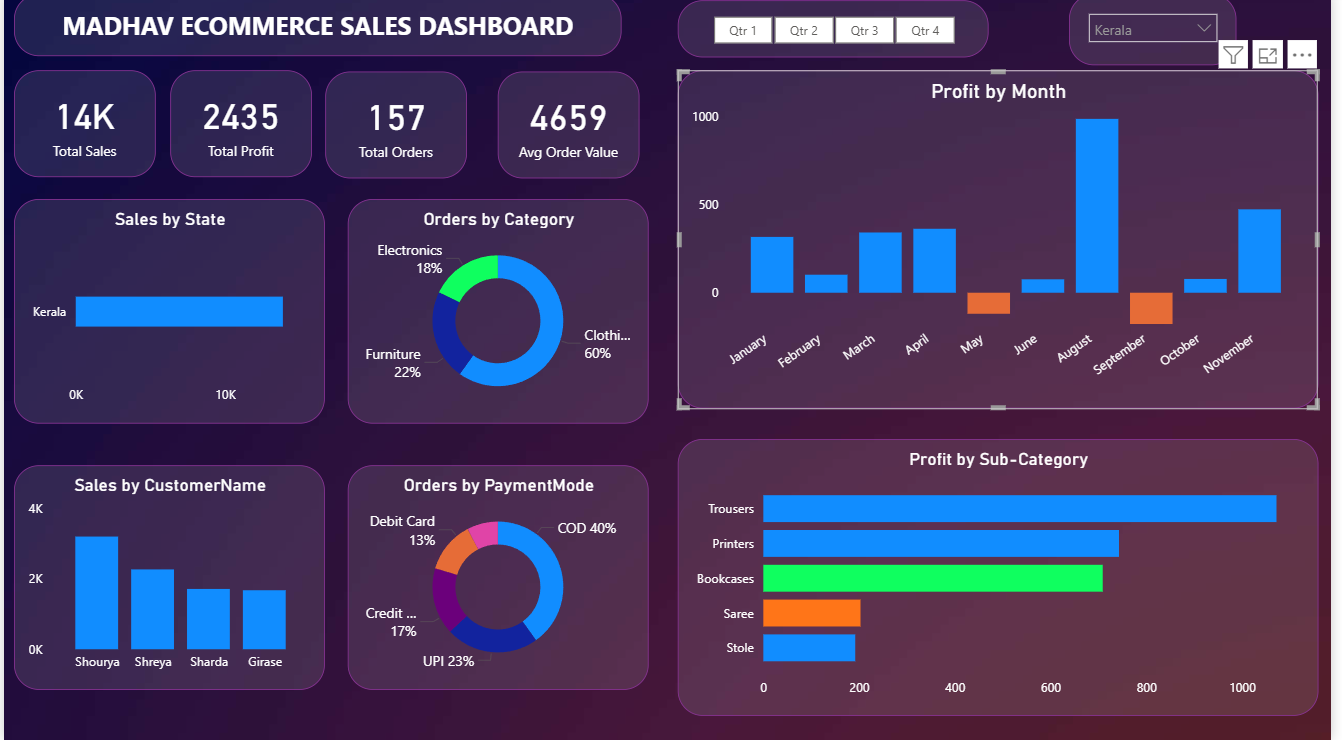

Layout of this report page (visuals, bound fields, positions):
{"tool":"powerbi","page":{"name":"Page 1","canvas":[1280,720],"ordinal":0},"visuals":[{"type":"textbox","box":[9.6,0,586.7,60.3],"z":0},{"type":"columnChart","title":"Profit by Month","fields":{"Category":["Orders.Order Date.Variation.Date Hierarchy.Month"],"Y":["Sum(Details.Profit)"]},"box":[649.7,74,618.2,326.2],"z":1000},{"type":"barChart","fields":{"Category":["Details.Sub-Category"],"Y":["Sum(Details.Profit)"]},"box":[649.7,429,618.2,267.3],"z":2000},{"type":"donutChart","fields":{"Category":["Details.Category"],"Y":["Sum(Details.Quantity)"]},"box":[331.7,197.4,290.6,216.6],"z":3000},{"type":"donutChart","fields":{"Y":["Sum(Details.Quantity)"],"Category":["Details.PaymentMode"]},"box":[331.7,455.1,290.6,216.6],"z":4000},{"type":"card","fields":{"Values":["Sum(Details.Amount)"]},"box":[9.6,74,137.1,102.8],"z":5000},{"type":"card","fields":{"Values":["Sum(Details.Profit)"]},"box":[160.4,74,137.1,102.8],"z":6000},{"type":"card","fields":{"Values":["Sum(Details.Quantity)"]},"box":[309.8,75.4,137.1,102.8],"z":7000},{"type":"card","fields":{"Values":["Sum(Details.AOV)"]},"box":[477,75.4,137.1,102.8],"z":8000},{"type":"barChart","fields":{"Category":["Orders.State"],"Y":["Sum(Details.Amount)"]},"box":[9.6,197.4,300.2,216.6],"z":9000},{"type":"columnChart","fields":{"Category":["Orders.CustomerName"],"Y":["Sum(Details.Amount)"]},"box":[10,455,300,217],"z":10000},{"type":"slicer","fields":{"Values":["Orders.Order Date.Variation.Date Hierarchy.Quarter"]},"box":[649.7,5.5,300.2,54.8],"z":11000},{"type":"slicer","fields":{"Values":["Orders.State"]},"box":[1028.1,0,161.7,68.5],"z":12000}]}

Visuals, with their boxes in screenshot pixels (x1, y1, x2, y2), scaled from the page's 1280x720 canvas onto the 1342x740 screenshot:
textbox: x1=10, y1=0, x2=625, y2=62
"Profit by Month" columnChart: x1=681, y1=76, x2=1329, y2=411
barChart - Details.Sub-Category x Sum(Details.Profit): x1=681, y1=441, x2=1329, y2=716
donutChart - Details.Category x Sum(Details.Quantity): x1=348, y1=203, x2=652, y2=425
donutChart - Sum(Details.Quantity) x Details.PaymentMode: x1=348, y1=468, x2=652, y2=690
card - Sum(Details.Amount): x1=10, y1=76, x2=154, y2=182
card - Sum(Details.Profit): x1=168, y1=76, x2=312, y2=182
card - Sum(Details.Quantity): x1=325, y1=77, x2=469, y2=183
card - Sum(Details.AOV): x1=500, y1=77, x2=644, y2=183
barChart - Orders.State x Sum(Details.Amount): x1=10, y1=203, x2=325, y2=425
columnChart - Orders.CustomerName x Sum(Details.Amount): x1=10, y1=468, x2=325, y2=691
slicer - Orders.Order Date.Variation.Date Hierarchy.Quarter: x1=681, y1=6, x2=996, y2=62
slicer - Orders.State: x1=1078, y1=0, x2=1247, y2=70
